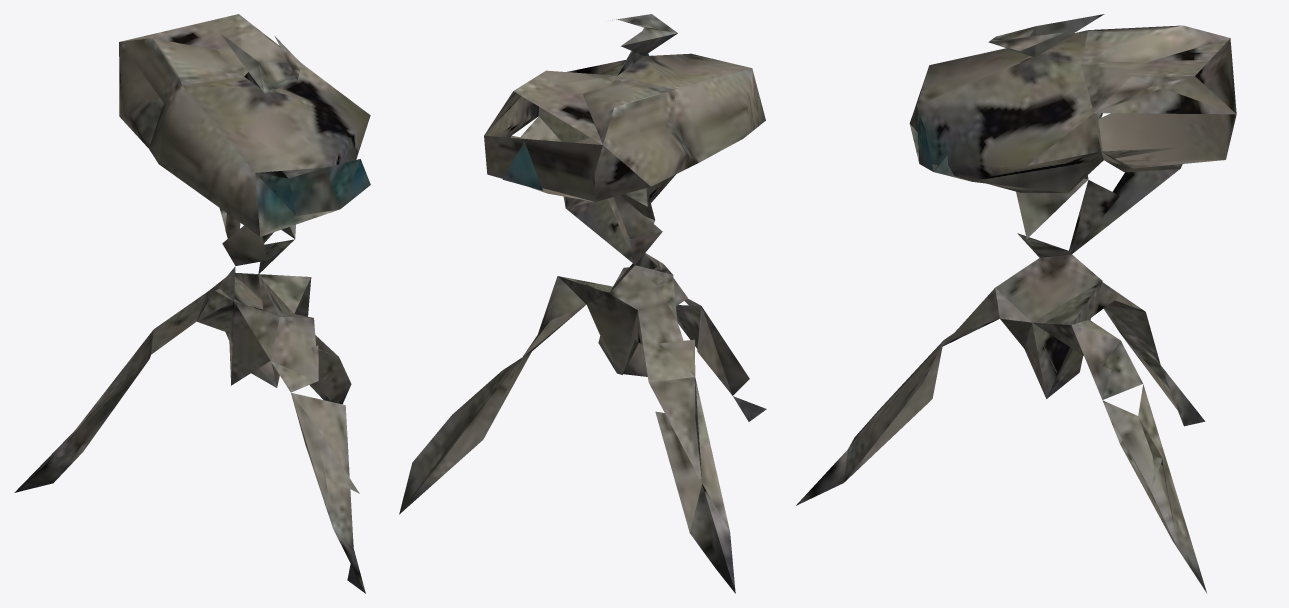
File: mini_turret_170509759_lod1.glb
The picture shows the model from 3 angles, left to right: view 1: azimuth 30°, elevation 25°; view 2: azimuth 150°, elevation 25°; view 3: azimuth 270°, elevation 25°; orthographic projection. The views are drawn at different scales.
Bounding box in the file's own units: 1.75 × 2.36 × 2.08.
1 material, 1 textured.
